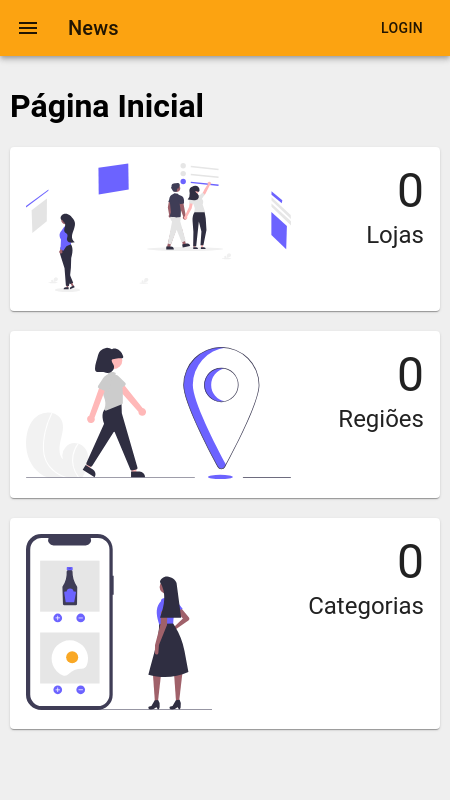
Test case: Teste da página de lojas › Acessar tela de lojas pelo menu
Click the button with test id "menu" at coordinates (28, 28), box [4,4,52,52]
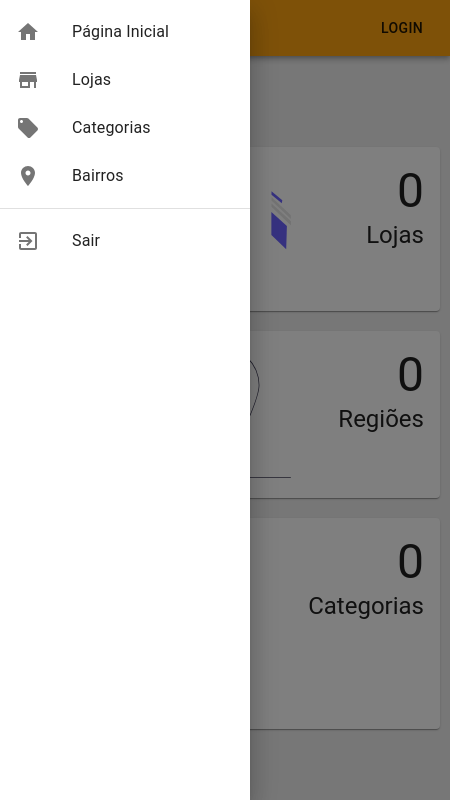
Click the button with test id "stores" at coordinates (92, 80), box [16,68,111,92]
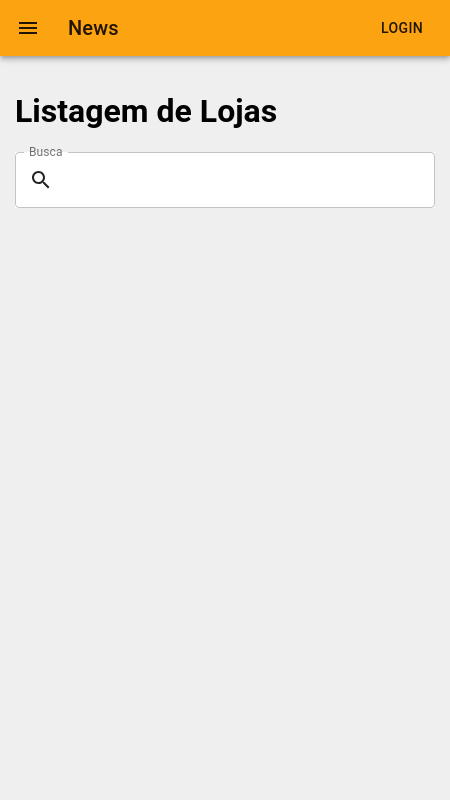
Expected: the heading "Listagem de Lojas" is shown, [15,92,277,130]
